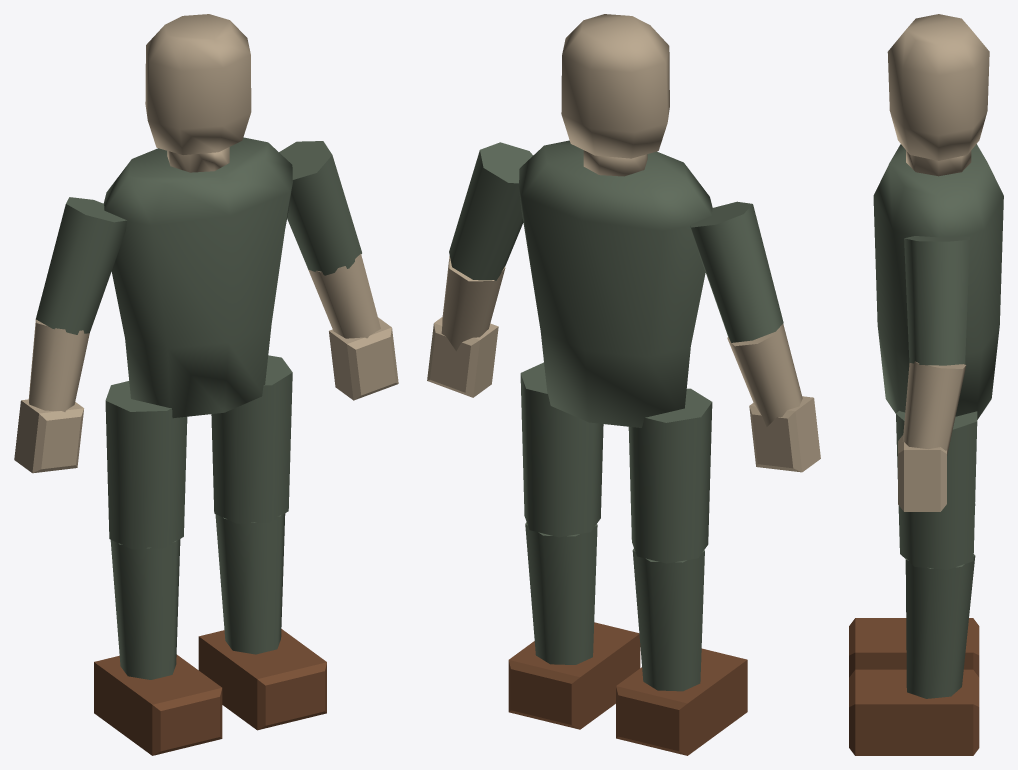
The model's file is traveler_mannequin.glb.
The picture shows the model from 3 angles, left to right: view 1: azimuth 30°, elevation 25°; view 2: azimuth 150°, elevation 25°; view 3: azimuth 270°, elevation 25°; orthographic projection. The views are drawn at different scales.
Visible parts, largest first — view 1: cloth_36, skin_38, cloth_39, cloth_45, leather_41, leather_47, cloth_46, cloth_40, cloth_42, cloth_48, skin_43, skin_44 (+3 smaller); view 2: cloth_36, skin_38, cloth_39, cloth_45, leather_41, leather_47, cloth_46, cloth_40, cloth_42, cloth_48, skin_43, skin_44 (+3 smaller); view 3: cloth_36, skin_38, leather_47, cloth_46, cloth_48, cloth_45, skin_49, leather_41, skin_50, skin_37.
Part boxes in pixels (left/top/right/bottom): cloth_36: left=103, top=137, right=292, bottom=418; skin_38: left=145, top=14, right=251, bottom=154; cloth_39: left=105, top=381, right=187, bottom=549; cloth_45: left=211, top=355, right=292, bottom=523; leather_41: left=94, top=654, right=222, bottom=755; leather_47: left=198, top=629, right=326, bottom=730; cloth_46: left=215, top=513, right=285, bottom=654; cloth_40: left=110, top=539, right=180, bottom=679; cloth_42: left=36, top=197, right=127, bottom=334; cloth_48: left=279, top=141, right=361, bottom=275; skin_43: left=28, top=319, right=89, bottom=411; skin_44: left=14, top=399, right=83, bottom=473; cloth_36: left=518, top=140, right=712, bottom=427; skin_38: left=561, top=14, right=669, bottom=158; cloth_39: left=628, top=388, right=712, bottom=563; cloth_45: left=520, top=362, right=603, bottom=537; leather_41: left=616, top=648, right=747, bottom=755; leather_47: left=508, top=622, right=640, bottom=729; cloth_46: left=525, top=522, right=597, bottom=664; cloth_40: left=632, top=548, right=704, bottom=691; cloth_42: left=690, top=201, right=783, bottom=342; cloth_48: left=449, top=142, right=532, bottom=280; skin_43: left=727, top=324, right=802, bottom=426; skin_44: left=749, top=396, right=820, bottom=472; cloth_36: left=873, top=144, right=1003, bottom=419; skin_38: left=887, top=14, right=989, bottom=160; leather_47: left=849, top=669, right=979, bottom=755; cloth_46: left=905, top=554, right=975, bottom=698; cloth_48: left=904, top=236, right=969, bottom=365; cloth_45: left=896, top=410, right=977, bottom=569; skin_49: left=902, top=361, right=966, bottom=455; leather_41: left=849, top=618, right=979, bottom=677; skin_50: left=898, top=435, right=946, bottom=511; skin_37: left=906, top=150, right=971, bottom=176.
Size of the model in its own units: 1.05 by 1.85 by 0.38.
